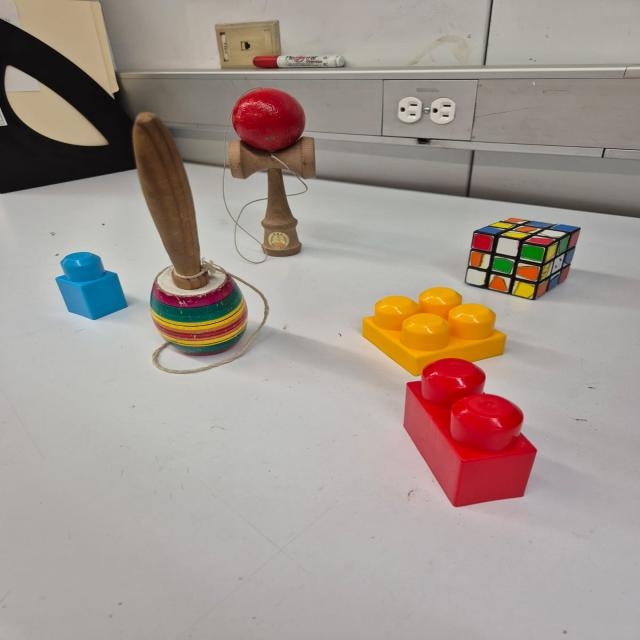balero: (131, 112, 270, 372)
balero ball: (230, 90, 317, 259)
lego 2: (402, 354, 538, 507)
lego 4: (360, 287, 508, 373)
lego_1: (53, 252, 127, 320)
rubick: (462, 218, 578, 299)
